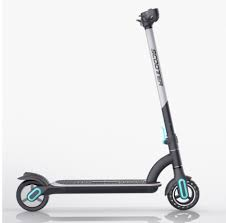kick_board: (17, 8, 199, 209)
kick_body: (54, 179, 155, 193)
kick_handler: (137, 8, 159, 27)
kick_neck: (144, 29, 184, 164)
kick_wheel: (16, 169, 48, 211), (165, 176, 199, 210)
